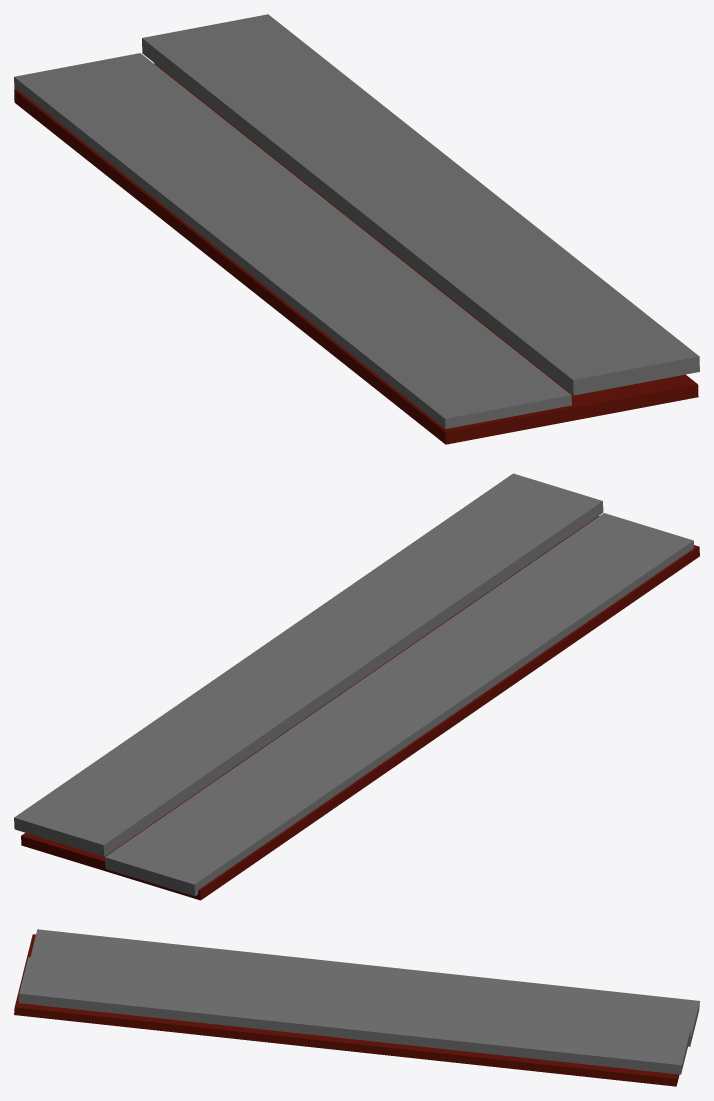
The model's file is LeftRadiator.glb.
3 views of the same model, one above another, from view 1: azimuth 30°, elevation 25°; view 2: azimuth 150°, elevation 25°; view 3: azimuth 270°, elevation 25° (orthographic). The views are drawn at different scales.
Parts seen in each view (by area): view 1: RadiatorFlap.004, RadiatorFlap.005, Radiator.001; view 2: RadiatorFlap.004, RadiatorFlap.005, Radiator.001; view 3: RadiatorFlap.004, RadiatorFlap.005, Radiator.001.
Boxes of the visible parts, box(x1,y1,x2,y2) form: RadiatorFlap.004: box(142, 14, 699, 395); RadiatorFlap.005: box(14, 53, 571, 428); Radiator.001: box(14, 63, 698, 444); RadiatorFlap.004: box(14, 473, 603, 856); RadiatorFlap.005: box(105, 513, 693, 896); Radiator.001: box(21, 516, 699, 900); RadiatorFlap.004: box(18, 957, 690, 1074); RadiatorFlap.005: box(30, 929, 699, 1046); Radiator.001: box(14, 934, 679, 1086).
Bounding box in the file's own units: 3.39 × 0.9897 × 9.44.
